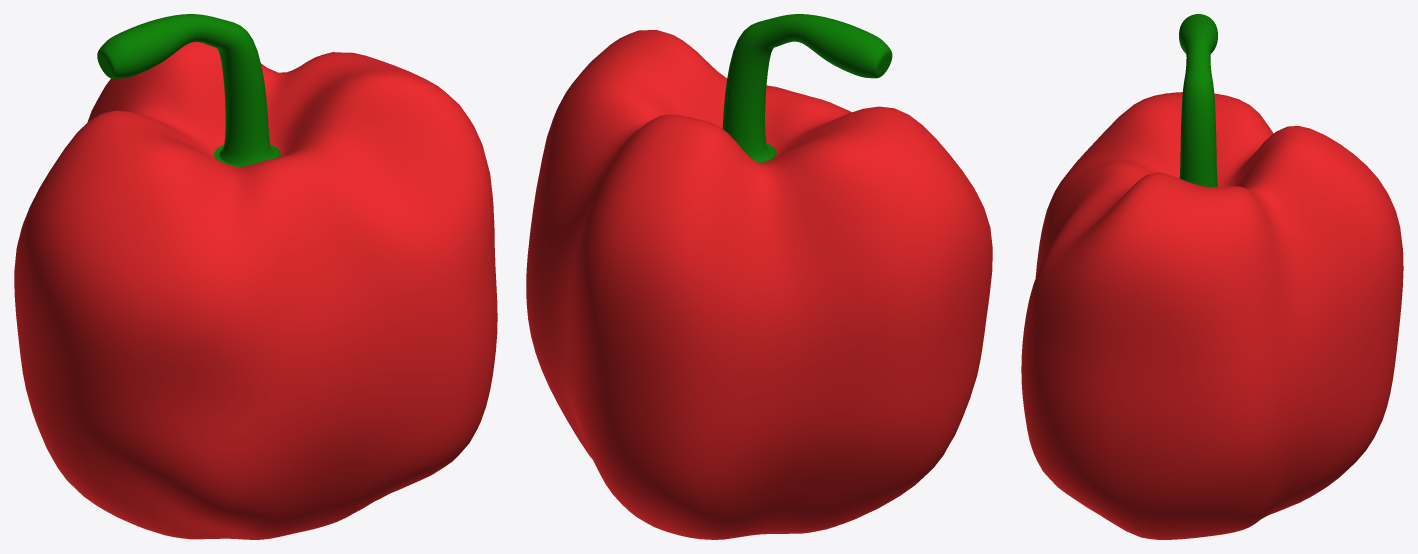
File: pimiento.fbx
3 views of the same model, side by side, from view 1: azimuth 30°, elevation 25°; view 2: azimuth 150°, elevation 25°; view 3: azimuth 270°, elevation 25° (orthographic). The views are drawn at different scales.
Visible parts, largest first — view 1: Sphere; view 2: Sphere; view 3: Sphere.
Boxes of the visible parts, bbox=[...] form: Sphere: bbox=[14, 14, 497, 539]; Sphere: bbox=[526, 14, 992, 539]; Sphere: bbox=[1021, 14, 1403, 539].
Bounding box in the file's own units: 270 × 308 × 245.
